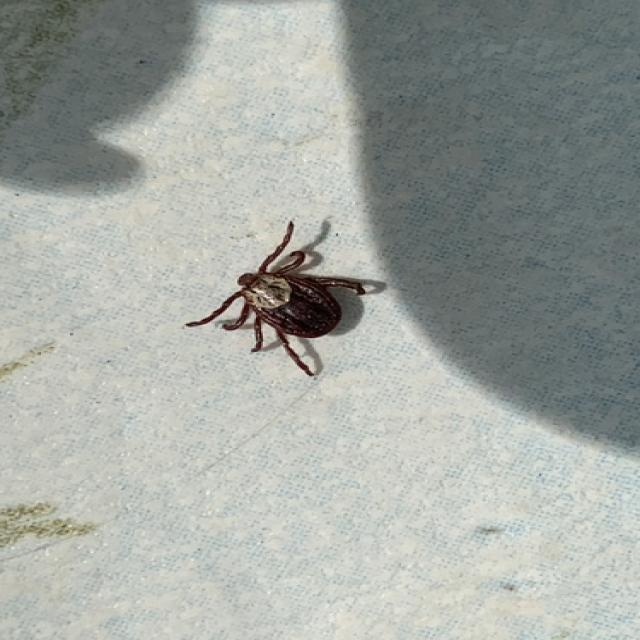Dermacentor Reticulatus-F: (184, 220, 387, 376)
